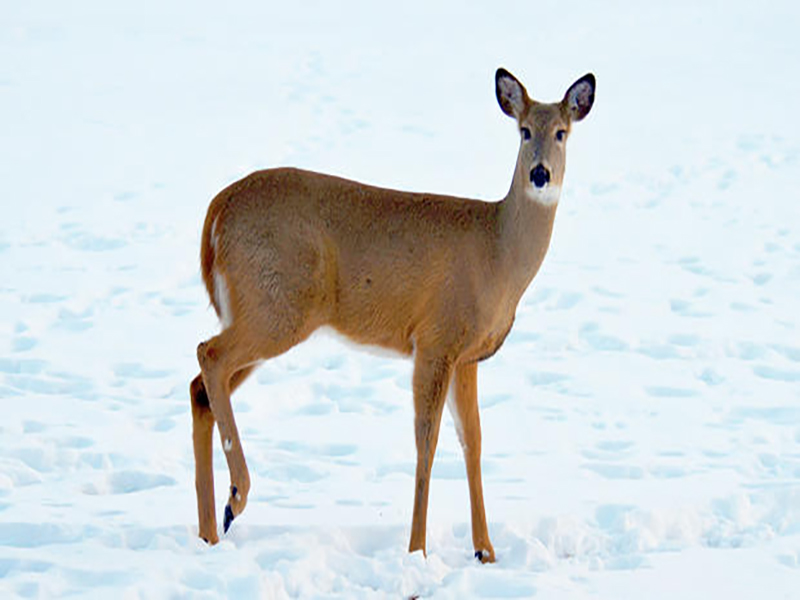cervo: (174, 66, 610, 545)
